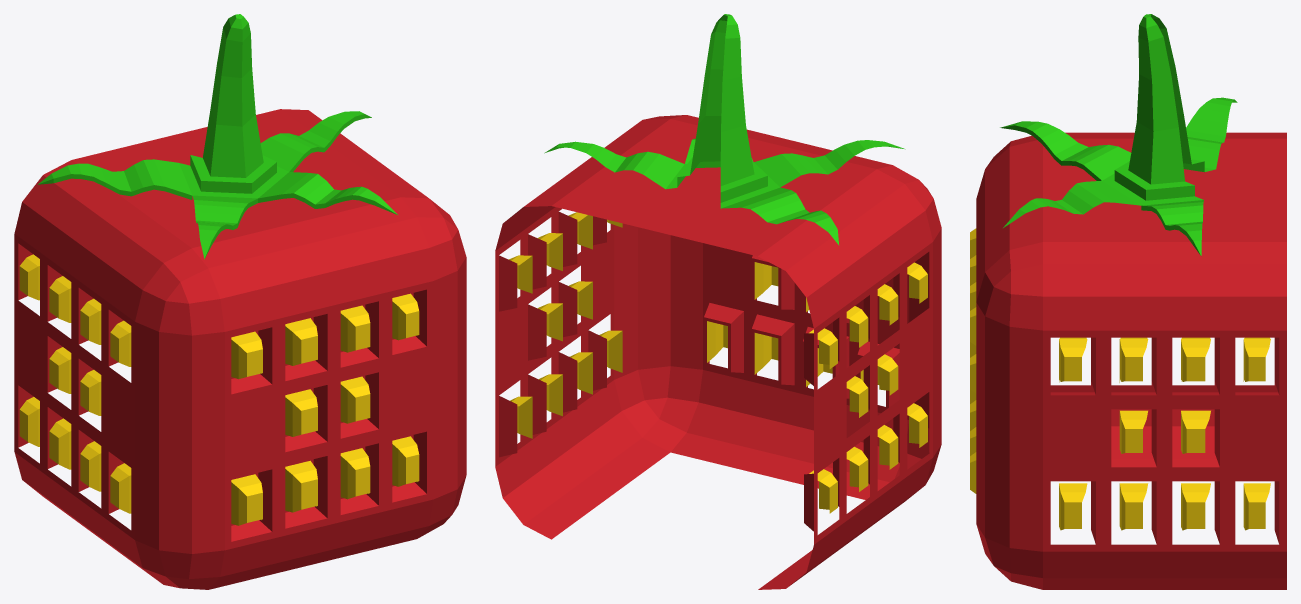
The model's file is finalstraytrial222v77.fbx.
3 views of the same model, side by side, from view 1: azimuth 30°, elevation 25°; view 2: azimuth 150°, elevation 25°; view 3: azimuth 270°, elevation 25° (orthographic). The views are drawn at different scales.
Parts seen in each view (by area): view 1: Cube, Cube.001; view 2: Cube, Cube.001; view 3: Cube, Cube.001.
Boxes of the visible parts, left/top/right/bottom form: Cube: left=14, top=109, right=466, bottom=589; Cube.001: left=38, top=14, right=397, bottom=259; Cube: left=495, top=115, right=941, bottom=589; Cube.001: left=544, top=14, right=905, bottom=245; Cube: left=970, top=132, right=1286, bottom=589; Cube.001: left=1000, top=14, right=1237, bottom=255.
Bounding box in the file's own units: 207 × 301 × 168.
